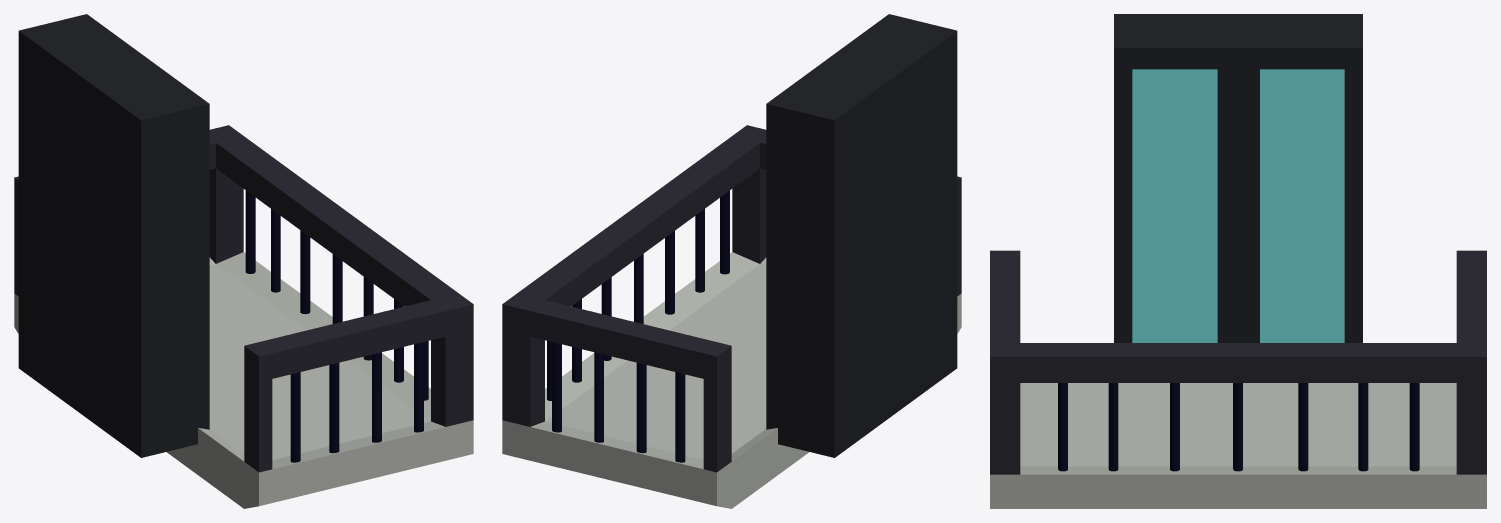
Rendered from Fenetre.fbx.
The picture shows the model from 3 angles, left to right: view 1: azimuth 30°, elevation 25°; view 2: azimuth 150°, elevation 25°; view 3: azimuth 270°, elevation 25°; orthographic projection.
Parts seen in each view (by area): view 1: Fenetre, Balcon, Cylinder; view 2: Fenetre, Balcon, Cylinder; view 3: Balcon, Fenetre, Cylinder.
Part boxes in pixels (x1=…): Fenetre: x1=18, y1=14, x2=209, y2=457; Balcon: x1=14, y1=125, x2=473, y2=508; Cylinder: x1=245, y1=190, x2=428, y2=462; Fenetre: x1=766, y1=14, x2=957, y2=457; Balcon: x1=502, y1=125, x2=961, y2=508; Cylinder: x1=547, y1=190, x2=729, y2=462; Balcon: x1=990, y1=250, x2=1486, y2=508; Fenetre: x1=1114, y1=14, x2=1362, y2=342; Cylinder: x1=1058, y1=383, x2=1419, y2=471.
Size of the model in its own units: 794 by 1031 by 1240.
